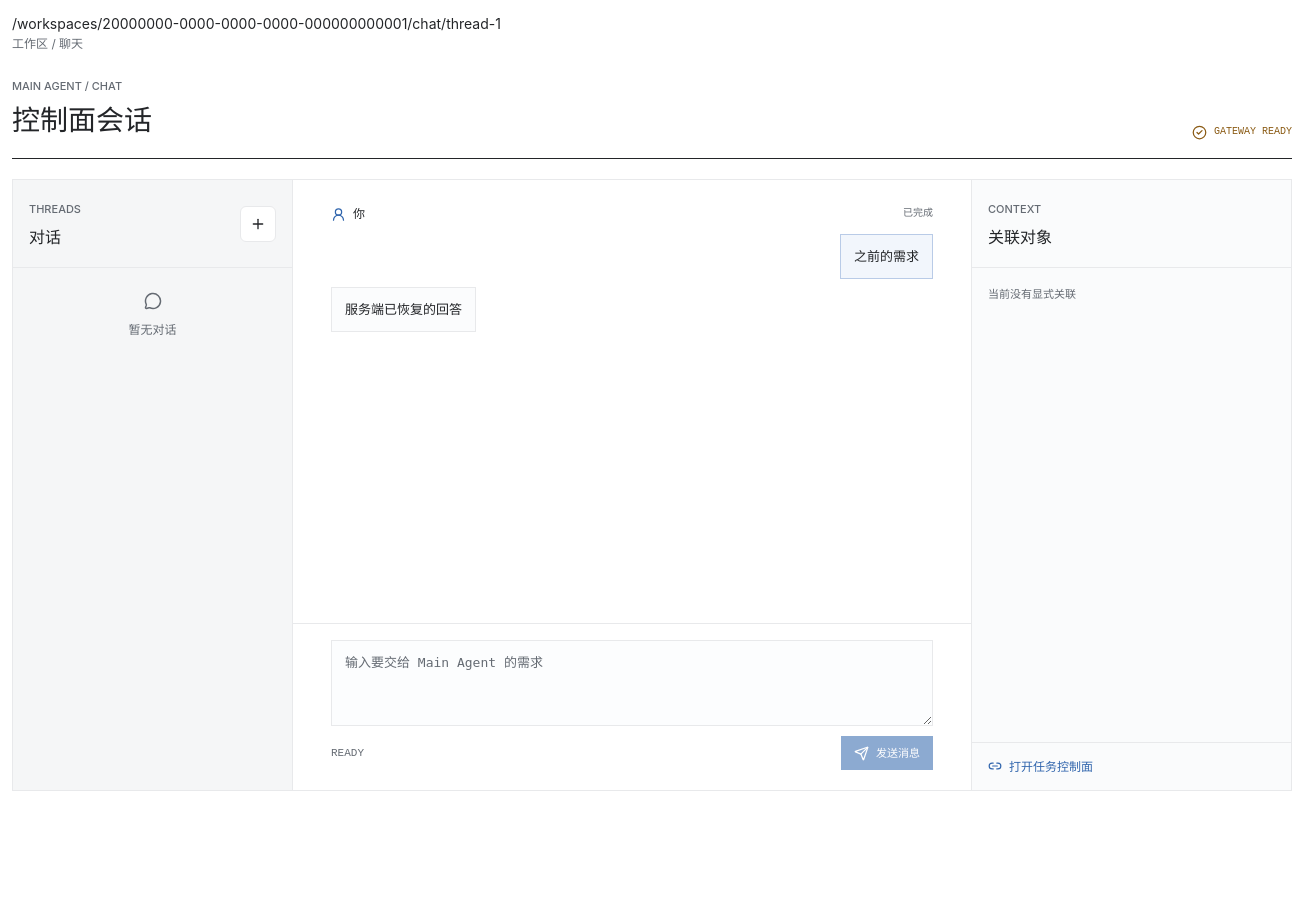
Test: Main Agent chat workspace › restores server history, sends only on click, and disables unconfirmed response interruption
Expected: the text "服务端已恢复的回答" is shown, [331, 287, 476, 332]
Type "新增需求" into the text box named "给 Main Agent 的消息" at (632, 683), box [331, 640, 933, 726]
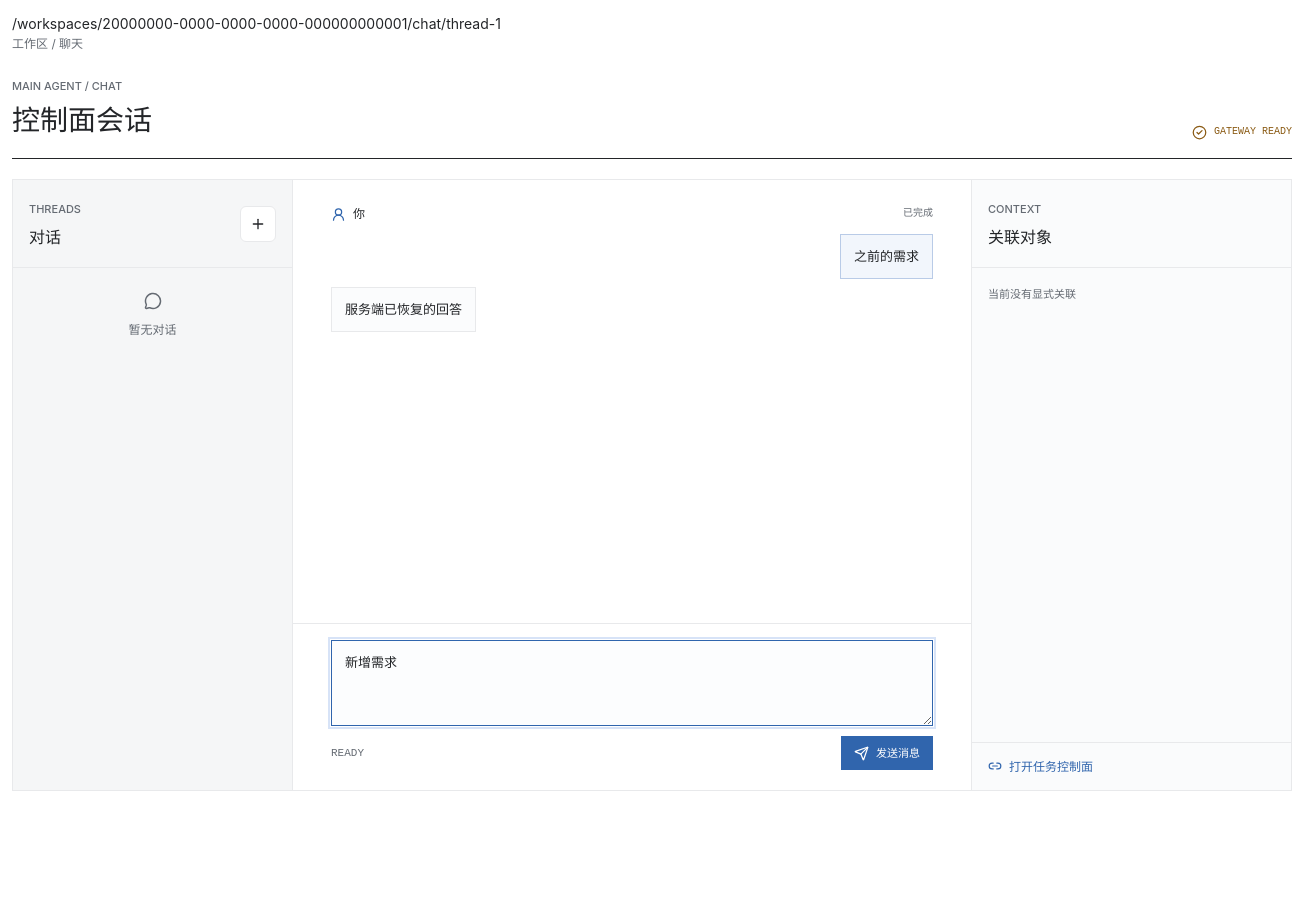
Click the button "发送消息" at (887, 753), box [841, 736, 933, 770]
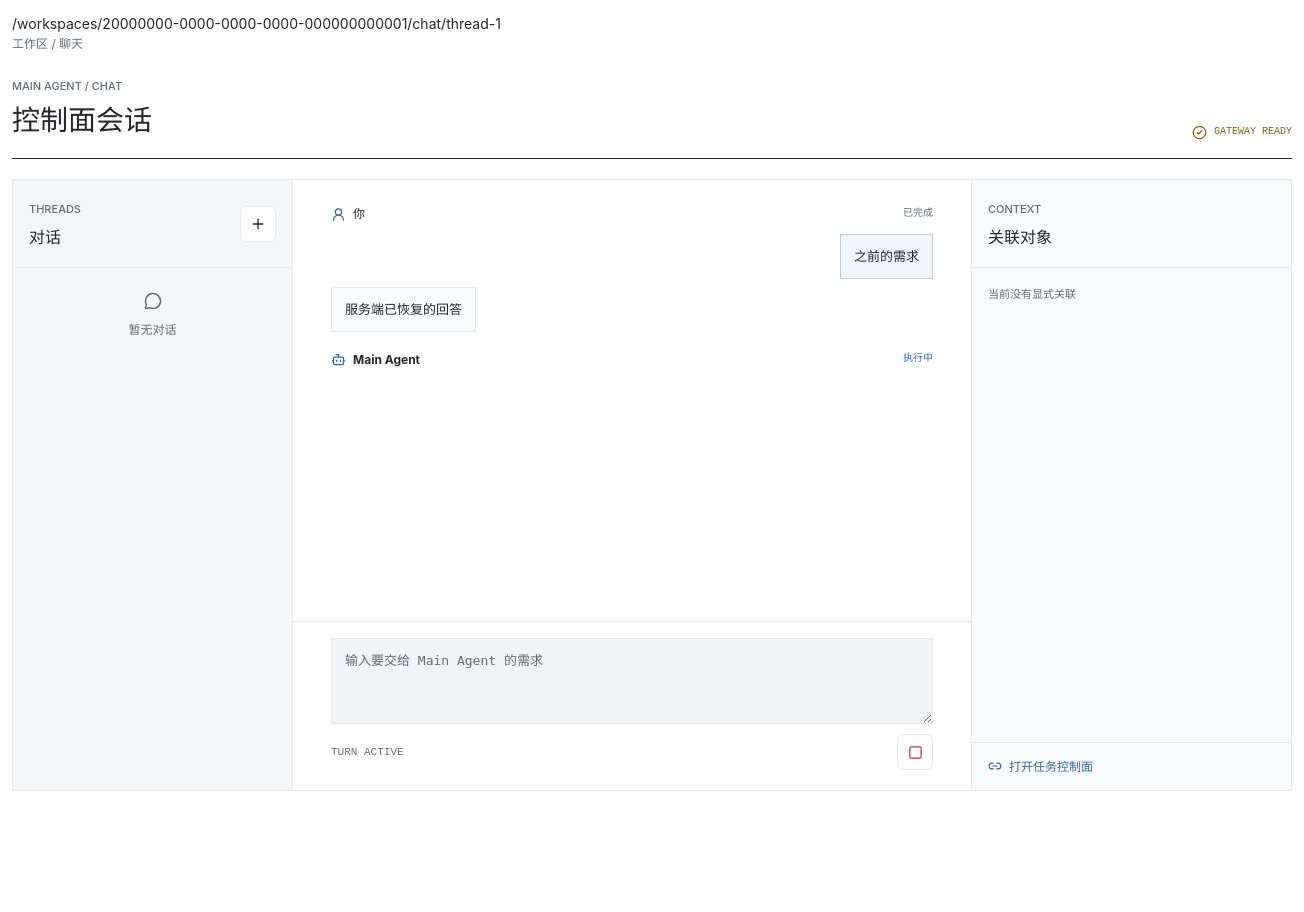
Now the text box named "给 Main Agent 的消息" is disabled, box [331, 638, 933, 724]
Now the button named "中断当前回复" is disabled, box [897, 734, 933, 770]
